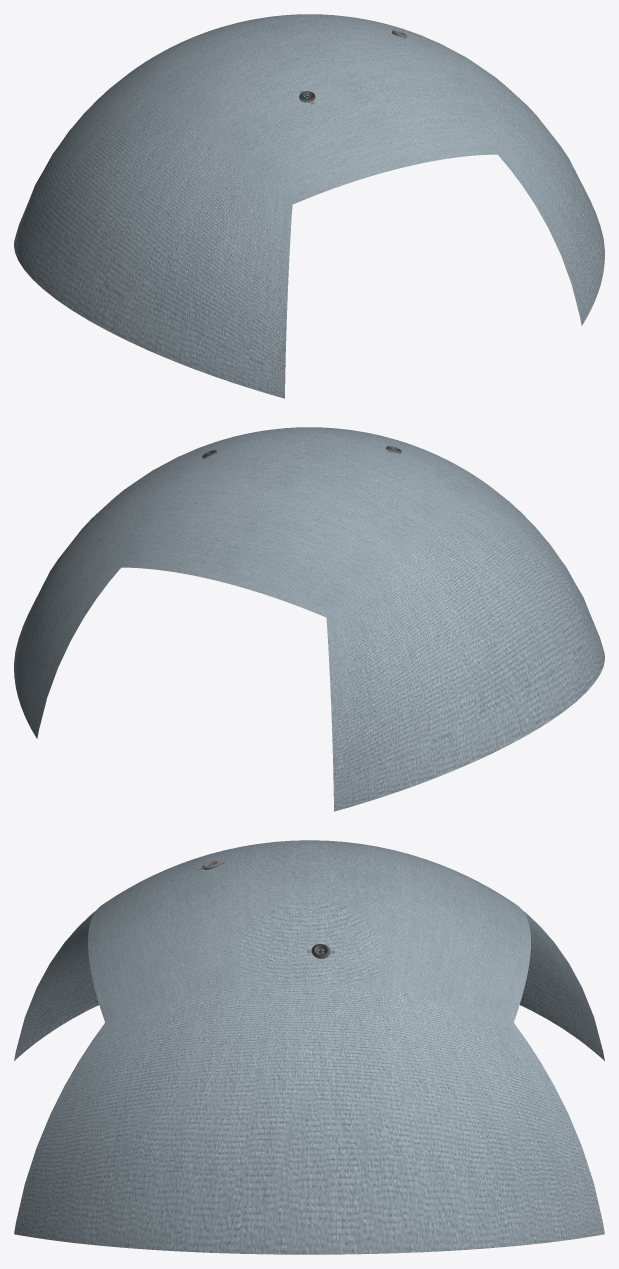
Rendered from 100_Colorway 1.glb.
The picture shows the model from 3 angles, top to bottom: view 1: azimuth 30°, elevation 25°; view 2: azimuth 150°, elevation 25°; view 3: azimuth 270°, elevation 25°; orthographic projection. The views are drawn at different scales.
Visible parts, largest first — view 1: Design_mat_0_Outside; view 2: Design_mat_0_Outside; view 3: Design_mat_0_Outside.
Part boxes in pixels (x1,y1,x2,y2): Design_mat_0_Outside: (14,14,604,398); Design_mat_0_Outside: (14,427,604,811); Design_mat_0_Outside: (14,840,604,1254).
Bounding box in the file's own units: 40.22 × 17.4 × 34.09.
7 materials, 7 textured.
